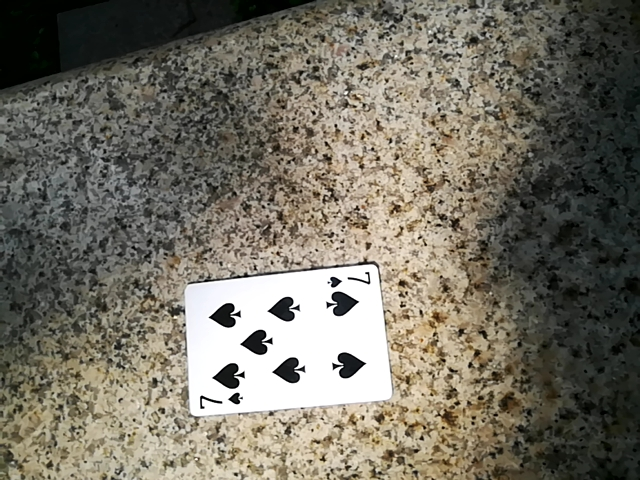ht 7: (172, 249, 389, 408)
